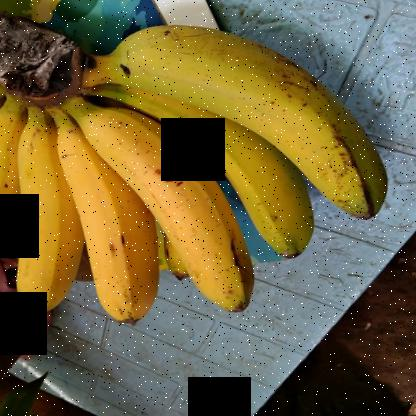freshripe: (54, 111, 158, 333), (7, 110, 82, 320)
ripe: (118, 20, 394, 224), (86, 108, 254, 320)
